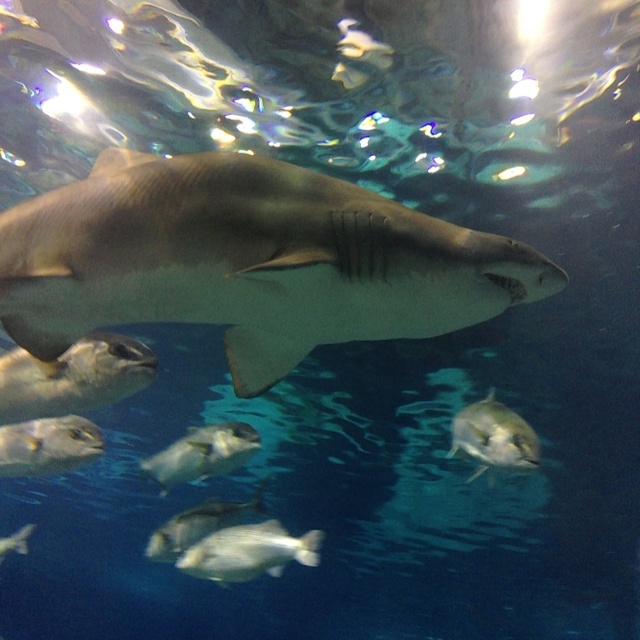Shark: (0, 148, 570, 401)
